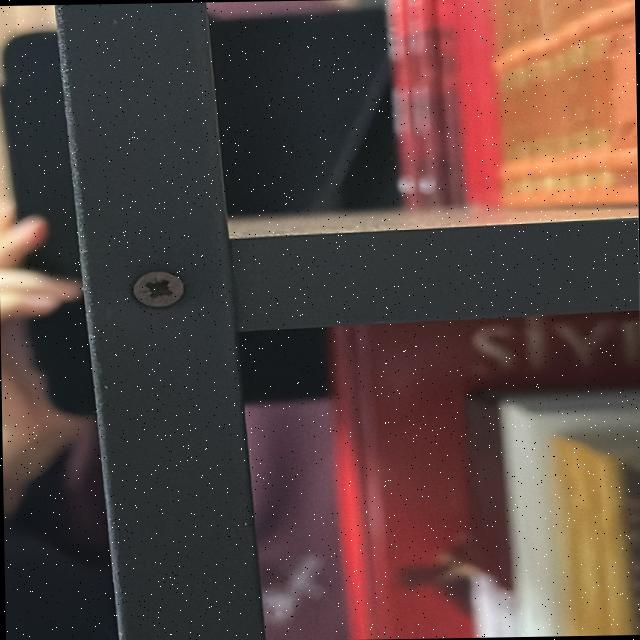Pozidriv: (123, 270, 187, 316)
